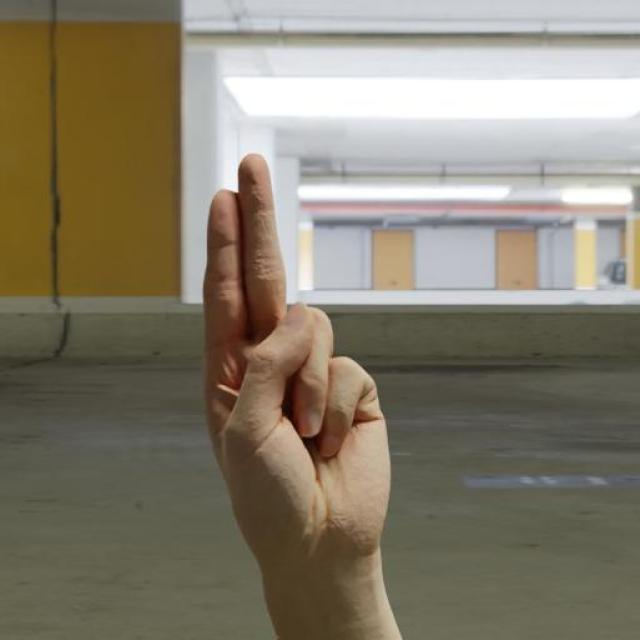U: (200, 150, 394, 560)
